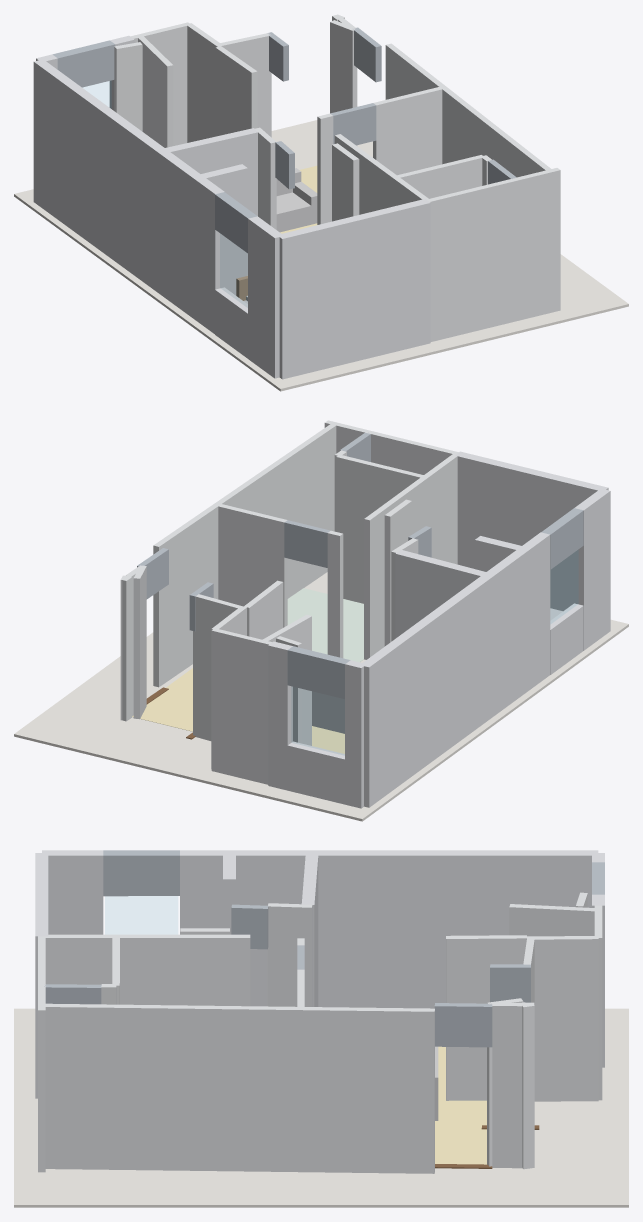
Rendered from test_gemini_bp_v1.glb.
3 views of the same model, one above another, from view 1: azimuth 30°, elevation 25°; view 2: azimuth 150°, elevation 25°; view 3: azimuth 270°, elevation 25° (orthographic). The views are drawn at different scales.
Parts seen in each view (by area): view 1: wall_post_013_final, wall_000_w1, wall_001_w2, floor_slab, wall_post_003_00, wall_002_w3, wall_post_019_final, wall_post_013_00, wall_009_w10, wall_010_w11, wall_018_w19, wall_017_w18 (+19 smaller); view 2: wall_post_013_final, floor_slab, wall_post_003_00, wall_000_w1, wall_012_w13, wall_post_019_final, wall_014_w15, wall_post_013_00, wall_018_w19, wall_016_w17, wall_post_011_final, wall_008_w9 (+24 smaller); view 3: wall_post_003_00, wall_post_013_final, floor_slab, wall_010_w11, wall_016_w17, wall_009_w10, wall_post_003_final, wall_post_013_00, wall_post_023_final, room_finish_005_living_room, lintel_win_013_win1, wall_015_w16 (+13 smaller).
Boxes of the visible parts, x1,y1,x2,y2 form: wall_post_013_final: (33, 60, 224, 333); wall_000_w1: (277, 199, 430, 379); wall_001_w2: (427, 178, 518, 341); floor_slab: (14, 120, 628, 391); wall_post_003_00: (385, 43, 550, 177); wall_002_w3: (515, 168, 560, 320); wall_post_019_final: (373, 87, 442, 175); wall_post_013_00: (248, 216, 281, 378); wall_009_w10: (215, 46, 257, 136); wall_010_w11: (186, 23, 222, 142); wall_018_w19: (161, 128, 257, 274); wall_017_w18: (138, 36, 173, 147); wall_post_013_final: (360, 532, 550, 807); floor_slab: (14, 572, 628, 821); wall_post_003_00: (153, 423, 336, 687); wall_000_w1: (455, 451, 608, 611); wall_012_w13: (211, 628, 272, 784); wall_post_019_final: (218, 504, 287, 627); wall_014_w15: (336, 454, 425, 603); wall_post_013_00: (574, 489, 610, 650); wall_018_w19: (395, 549, 489, 638); wall_016_w17: (364, 476, 427, 659); wall_post_011_final: (268, 641, 292, 790); wall_008_w9: (193, 594, 244, 740); wall_post_003_00: (42, 1003, 434, 1173); wall_post_013_final: (180, 850, 598, 1008); floor_slab: (14, 1008, 628, 1207); wall_010_w11: (527, 936, 598, 1101); wall_016_w17: (116, 934, 250, 1006); wall_009_w10: (446, 935, 526, 1100); wall_post_003_final: (492, 1002, 522, 1168); wall_post_013_00: (42, 850, 103, 934); wall_post_023_final: (267, 903, 312, 1006); room_finish_005_living_room: (435, 1046, 486, 1164); lintel_win_013_win1: (103, 850, 179, 896); wall_015_w16: (45, 934, 115, 984).
Bounding box in the file's own units: 7.27 × 2.85 × 9.63.
